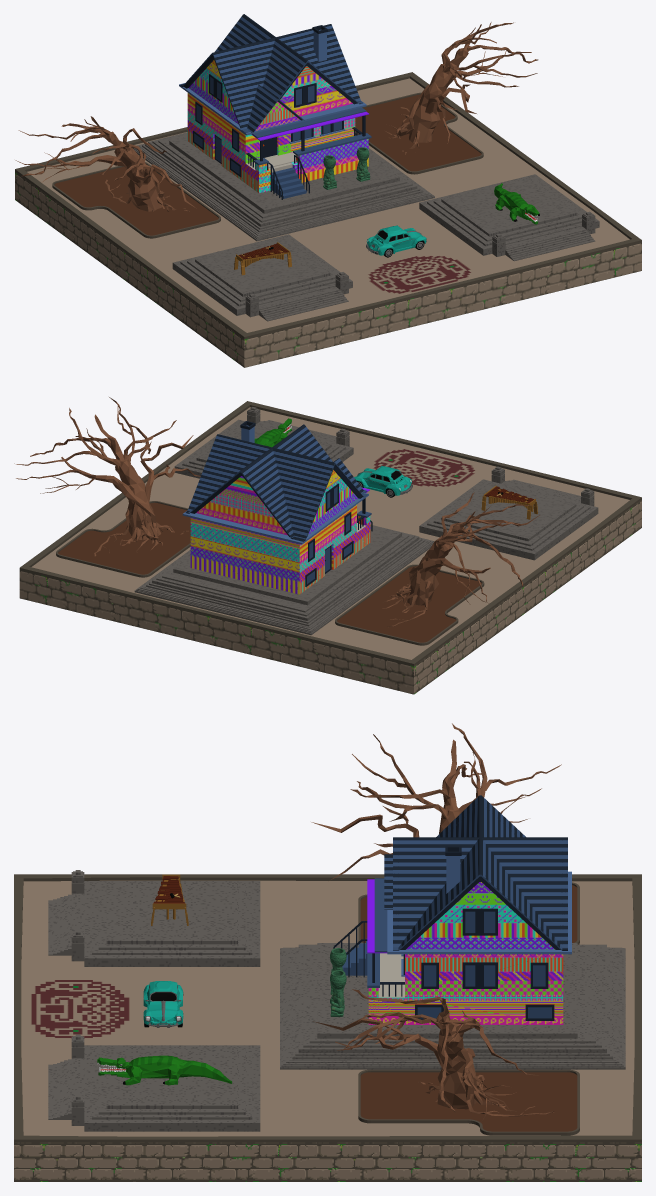
The picture shows the model from 3 angles, top to bottom: view 1: azimuth 30°, elevation 25°; view 2: azimuth 150°, elevation 25°; view 3: azimuth 270°, elevation 25°; orthographic projection. The views are drawn at different scales.
Parts seen in each view (by area): view 1: Cube.011, Cube.676, VEHICLES_VOLKSWAGEN, ANIMAL_COCODRILO, OBJRANDOM_MARIMBA; view 2: Cube.011, Cube.676, VEHICLES_VOLKSWAGEN, OBJRANDOM_MARIMBA, ANIMAL_COCODRILO; view 3: Cube.011, Cube.676, ANIMAL_COCODRILO, VEHICLES_VOLKSWAGEN, OBJRANDOM_MARIMBA.
Part boxes in pixels (x1=…): Cube.011: x1=15, y1=22, x2=641, y2=367; Cube.676: x1=179, y1=14, x2=371, y2=199; VEHICLES_VOLKSWAGEN: x1=366, y1=225, x2=426, y2=257; ANIMAL_COCODRILO: x1=494, y1=183, x2=539, y2=224; OBJRANDOM_MARIMBA: x1=234, y1=242, x2=291, y2=275; Cube.011: x1=14, y1=397, x2=641, y2=694; Cube.676: x1=182, y1=421, x2=372, y2=594; VEHICLES_VOLKSWAGEN: x1=354, y1=466, x2=412, y2=497; OBJRANDOM_MARIMBA: x1=481, y1=485, x2=537, y2=519; ANIMAL_COCODRILO: x1=254, y1=418, x2=291, y2=447; Cube.011: x1=14, y1=723, x2=641, y2=1181; Cube.676: x1=333, y1=795, x2=571, y2=1024; ANIMAL_COCODRILO: x1=97, y1=1055, x2=232, y2=1085; VEHICLES_VOLKSWAGEN: x1=143, y1=981, x2=183, y2=1027; OBJRANDOM_MARIMBA: x1=151, y1=874, x2=188, y2=925.
Size of the model in its own units: 5099 by 1659 by 4000.
38 materials, 9 textured.
